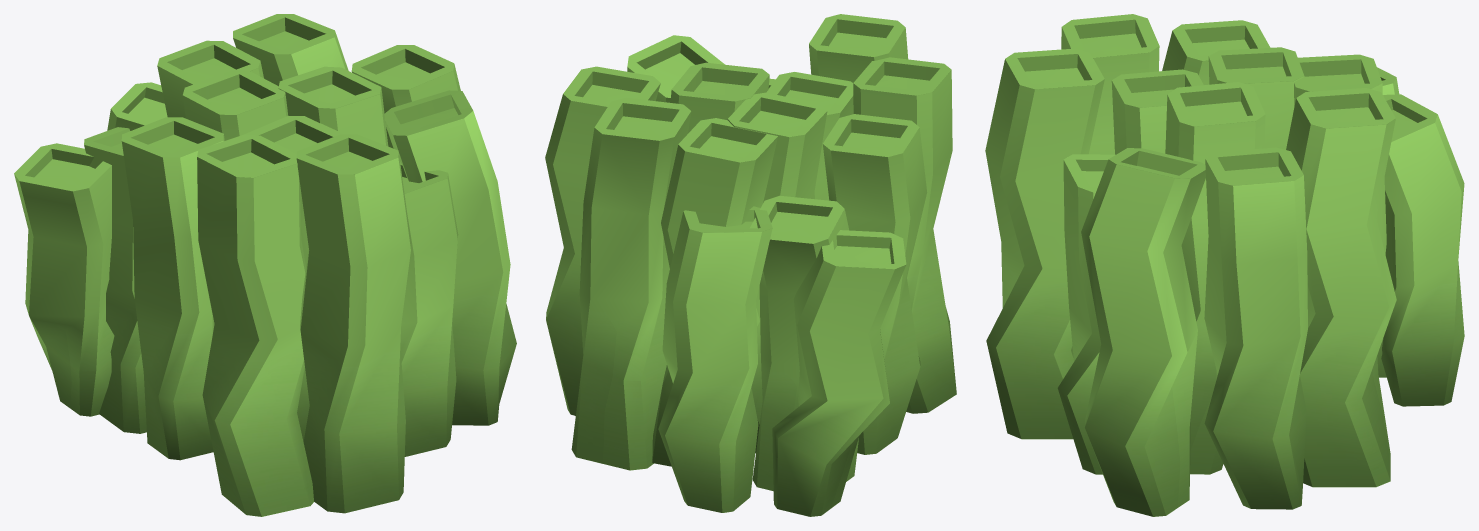
File: AnemonePurple.fbx
3 renders of one model, left to right at view 1: azimuth 30°, elevation 25°; view 2: azimuth 150°, elevation 25°; view 3: azimuth 270°, elevation 25°, orthographic. The views are drawn at different scales.
Parts seen in each view (by area): view 1: Green1, Green3, Green4, Green14, Green7, Green10, Green5, Green13, Green12, Green9, Green2, Green6 (+2 smaller); view 2: Green12, Green8, Green7, Green4, Green3, Green2, Green5, Green6, Green9, Green1, Green13, Green11 (+1 smaller); view 3: Green14, Green2, Green12, Green1, Green8, Green13, Green10, Green3, Green9, Green11, Green4, Green6.
Part boxes in pixels (<box>): Green1: <box>296,134,411,513</box>; Green3: <box>197,134,313,516</box>; Green4: <box>121,117,224,460</box>; Green14: <box>384,90,516,425</box>; Green7: <box>14,143,114,416</box>; Green10: <box>400,162,458,456</box>; Green5: <box>84,127,146,433</box>; Green13: <box>278,66,388,146</box>; Green12: <box>233,14,348,86</box>; Green9: <box>182,70,288,140</box>; Green2: <box>351,45,460,148</box>; Green6: <box>157,40,263,118</box>; Green12: <box>571,97,691,470</box>; Green8: <box>658,206,772,512</box>; Green7: <box>772,230,906,516</box>; Green4: <box>823,114,927,454</box>; Green3: <box>853,57,956,413</box>; Green2: <box>545,66,660,415</box>; Green5: <box>750,195,858,491</box>; Green6: <box>652,118,777,466</box>; Green9: <box>727,92,827,453</box>; Green1: <box>809,14,908,82</box>; Green13: <box>670,62,769,133</box>; Green11: <box>766,72,853,200</box>; Green14: <box>1081,148,1205,516</box>; Green2: <box>1204,147,1307,509</box>; Green12: <box>1286,88,1396,487</box>; Green1: <box>985,48,1104,439</box>; Green8: <box>1381,94,1464,406</box>; Green13: <box>1165,82,1265,474</box>; Green10: <box>1057,154,1115,474</box>; Green3: <box>1061,14,1159,154</box>; Green9: <box>1208,47,1304,149</box>; Green11: <box>1111,69,1203,154</box>; Green4: <box>1162,20,1270,84</box>; Green6: <box>1294,54,1386,370</box>.
Size of the model in its own units: 0.8998 by 0.7342 by 0.9021.
